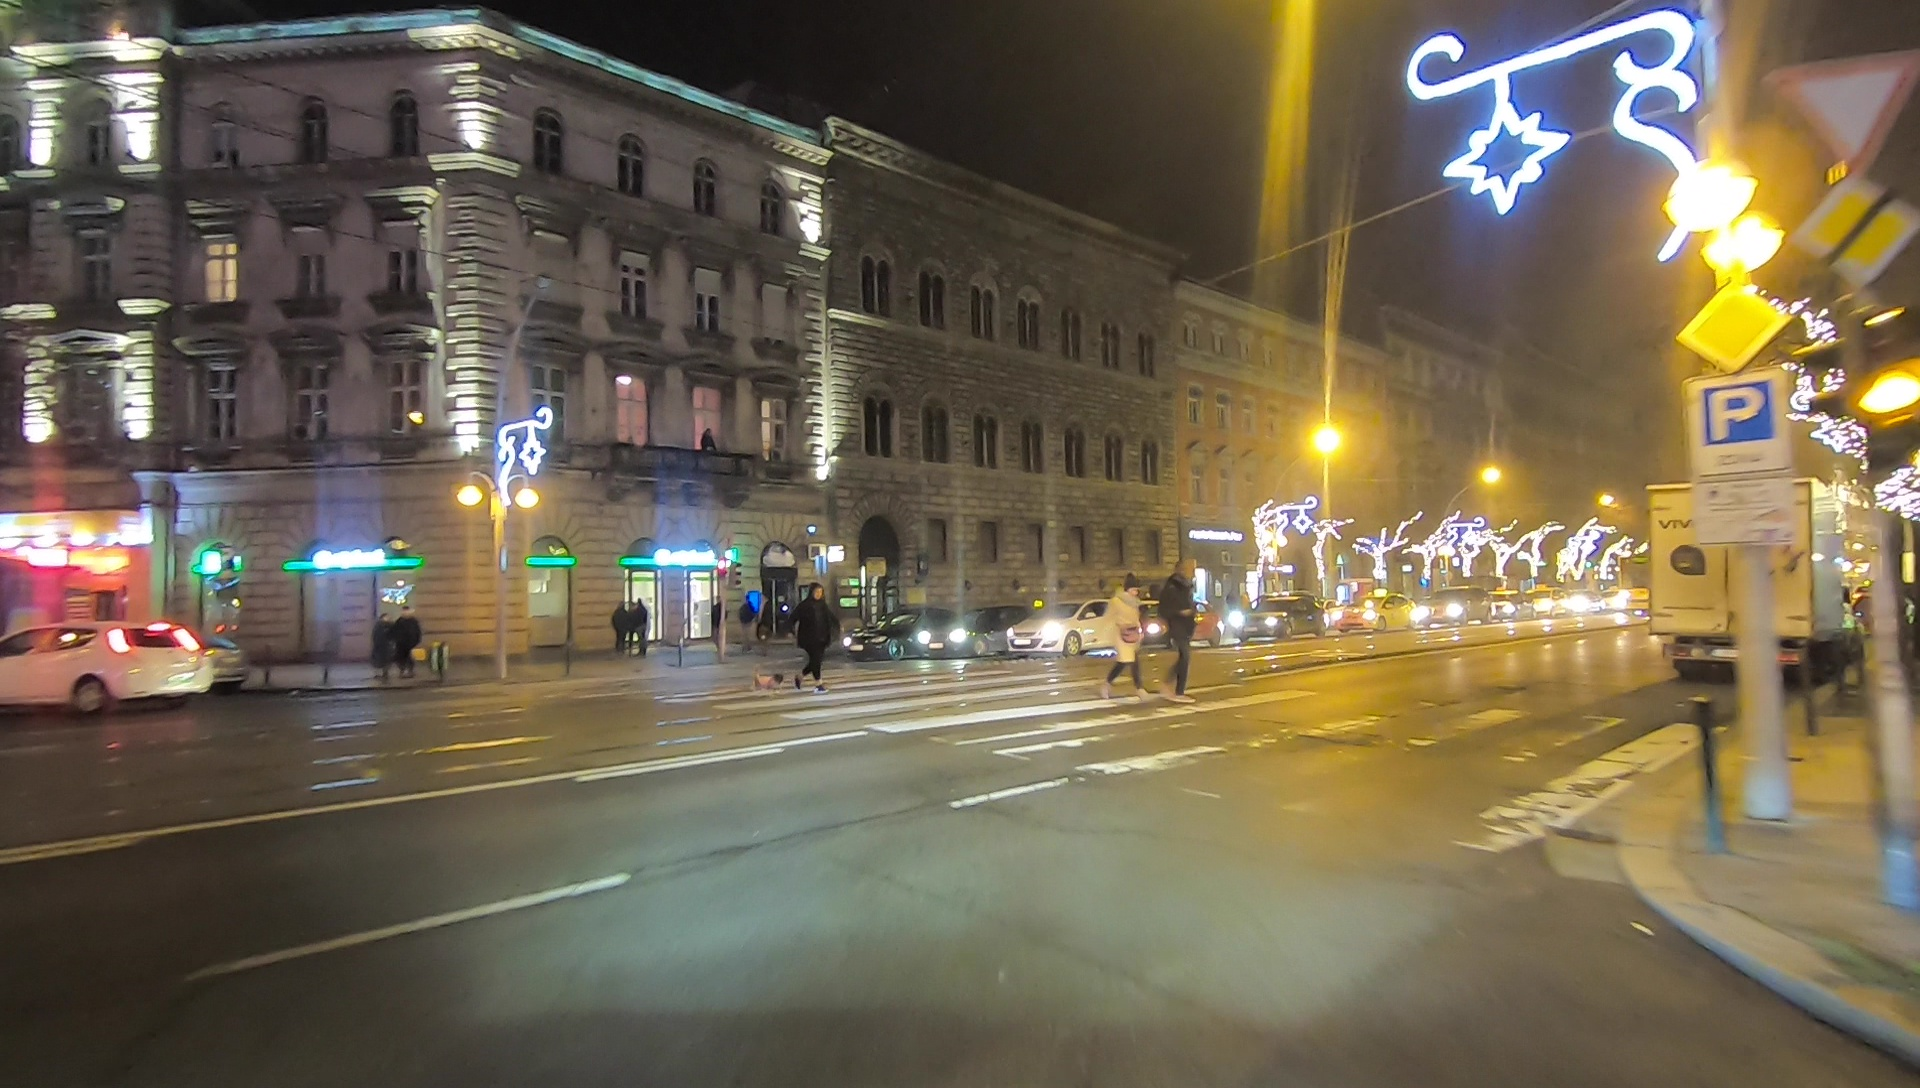person: (1162, 561, 1195, 699), (1106, 576, 1143, 693), (395, 610, 421, 673), (371, 613, 393, 676), (634, 595, 649, 654), (612, 597, 628, 650)
